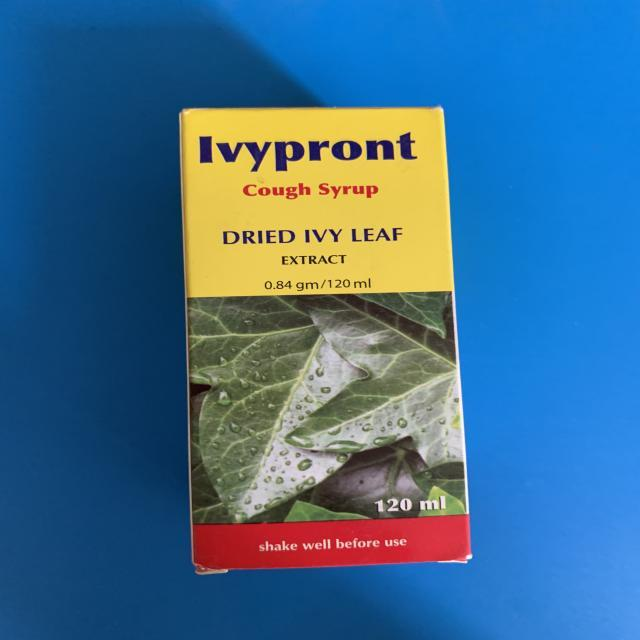Medicine Name: (193, 127, 425, 177)
